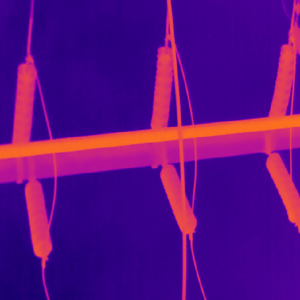insulator: (158, 161, 197, 235), (264, 150, 300, 224), (23, 176, 52, 260), (11, 60, 37, 148), (148, 45, 174, 129), (267, 43, 296, 118)
